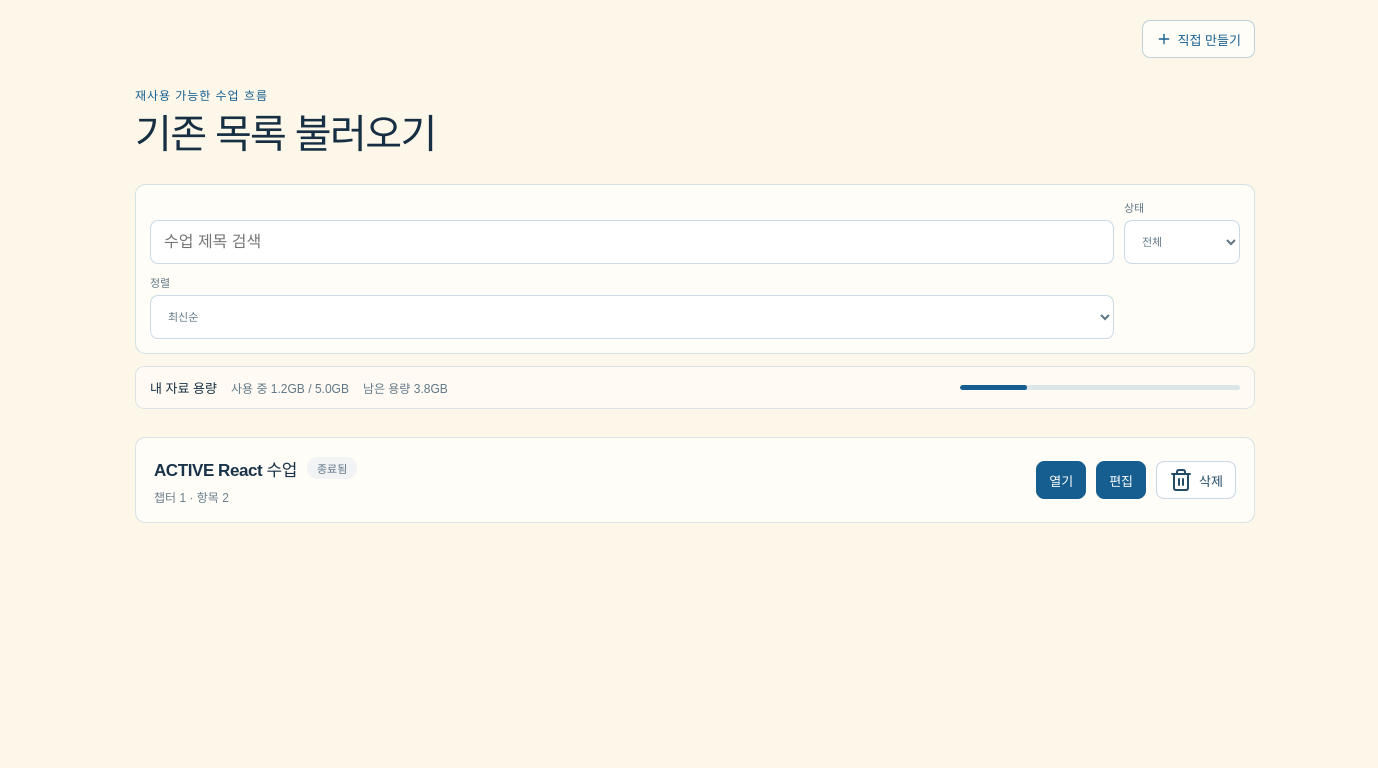
Scenario: CloudCourseCatalogPage › ENDED 최신 강의방은 2000-07-25T02:00:00.000Z 상태로 표시하고 알맞은 화면을 연다
Expected: the text "종료됨" is shown, x1=307 y1=457 x2=357 y2=479
Click the button "열기".
click(1061, 480)  # box x1=1036 y1=461 x2=1086 y2=499
(page scrolled)
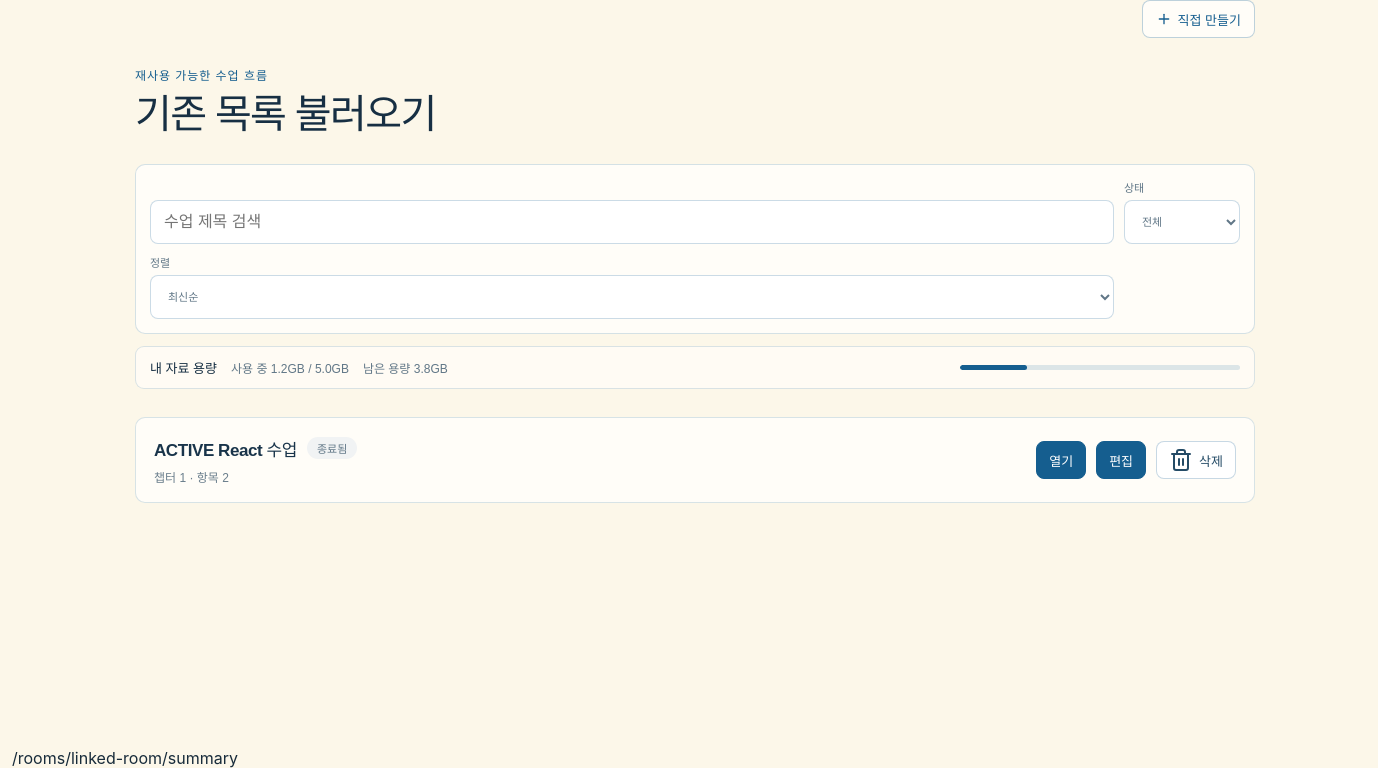
Now the text with test id "location" reads "/rooms/linked-room/summary", box x1=12 y1=748 x2=238 y2=767
